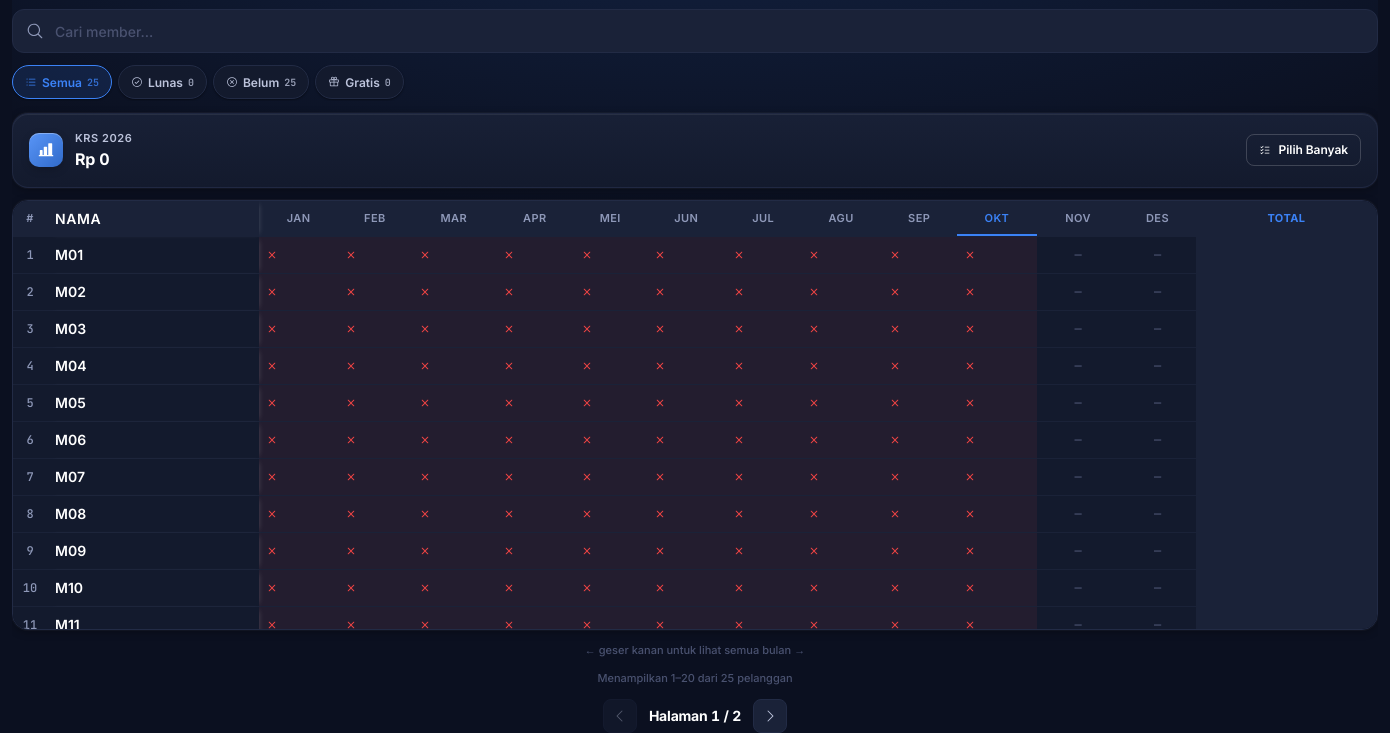
Test case: RekapView — pagination (v11.6.5) › klik "Halaman berikutnya" menampilkan M21 (halaman 2) dan menyembunyikan M01 (halaman 1)
Click the button named "Halaman berikutnya": (770, 716) [753,699,787,732]
(page scrolled)
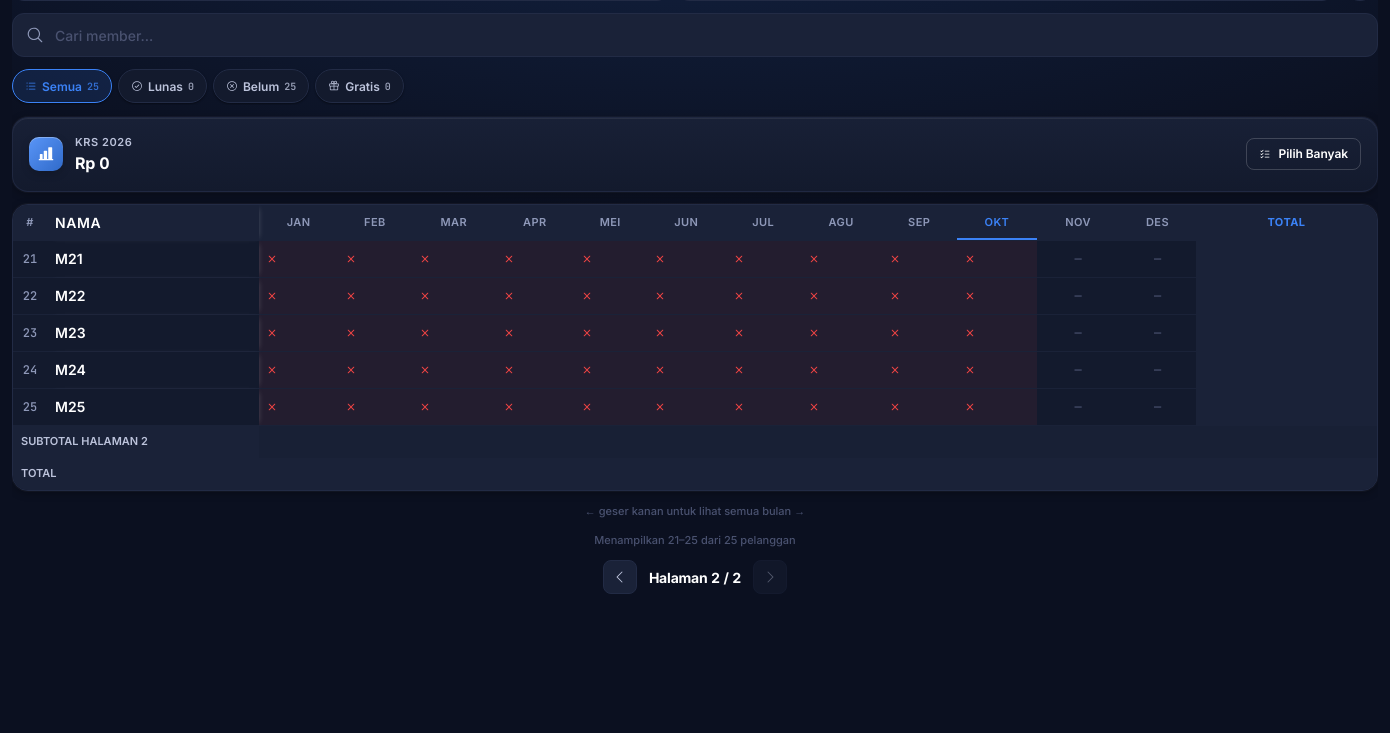
Result: the text "Halaman 2 / 2" is shown at [649,566,741,588]
Result: the button "M21" is shown at [55,250,83,267]
Result: the button "M01" is gone
